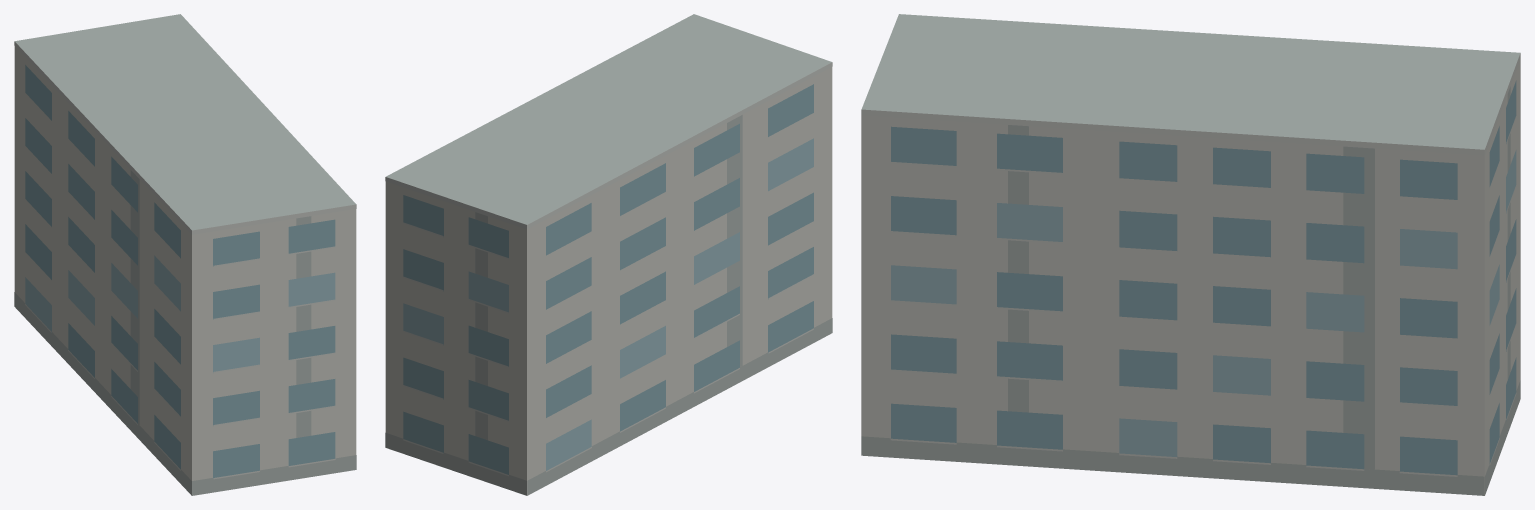
File: survey-upis-32494314.glb
3 renders of one model, left to right at view 1: azimuth 30°, elevation 25°; view 2: azimuth 150°, elevation 25°; view 3: azimuth 270°, elevation 25°, orthographic. The views are drawn at different scales.
Visible parts, largest first — view 1: survey-upis-32494314.tmp; view 2: survey-upis-32494314.tmp; view 3: survey-upis-32494314.tmp.
Part boxes in pixels (x1=…): survey-upis-32494314.tmp: x1=14, y1=14, x2=356, y2=495; survey-upis-32494314.tmp: x1=385, y1=14, x2=832, y2=495; survey-upis-32494314.tmp: x1=861, y1=14, x2=1520, y2=495.
Size of the model in its own units: 12.04 by 14.3 by 24.69.
